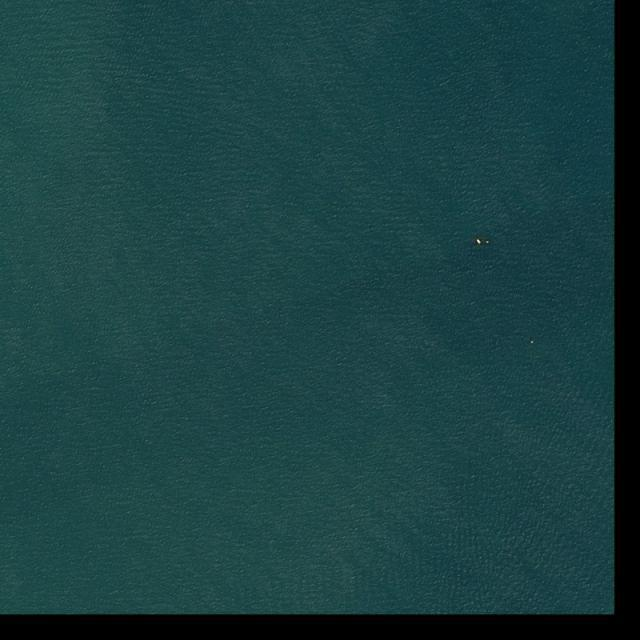ship: (475, 238, 482, 245)
